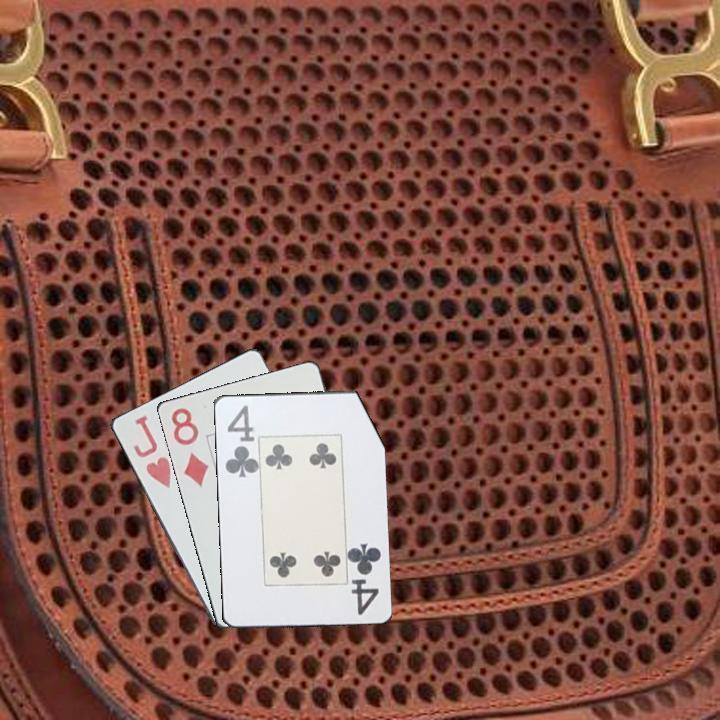4c: (346, 539, 384, 618), (221, 402, 259, 480)
8d: (167, 404, 211, 490)
Jh: (129, 411, 174, 491)
